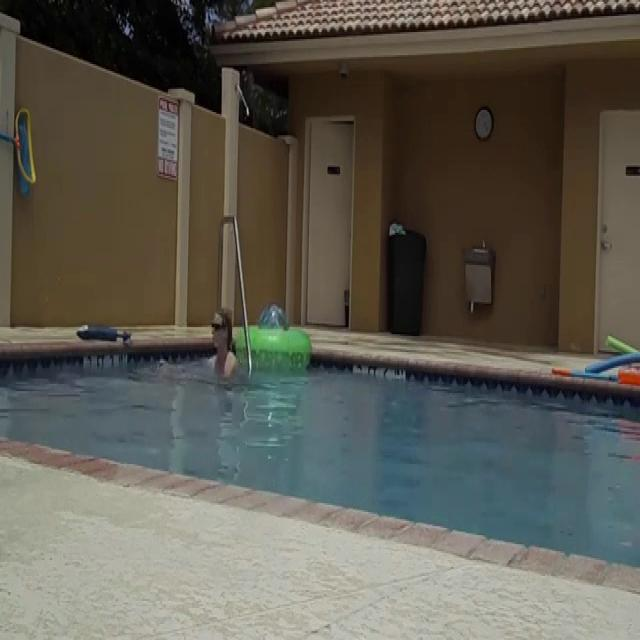adult: (160, 306, 242, 410)
